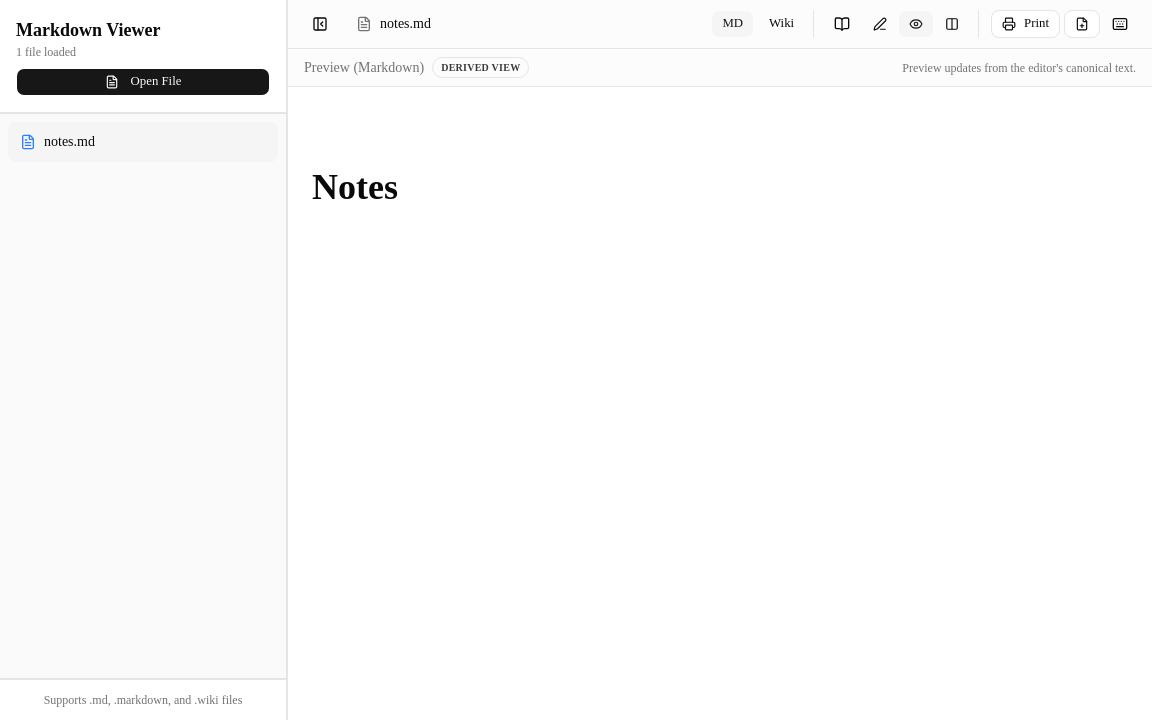
Test case: MDViewer cheatsheet modal › opens the markdown cheatsheet for markdown files by default
The image size is (1152, 720).
Click the button titled "Toggle cheatsheet (Ctrl+/)" at (842, 24), box [826,8,858,40]
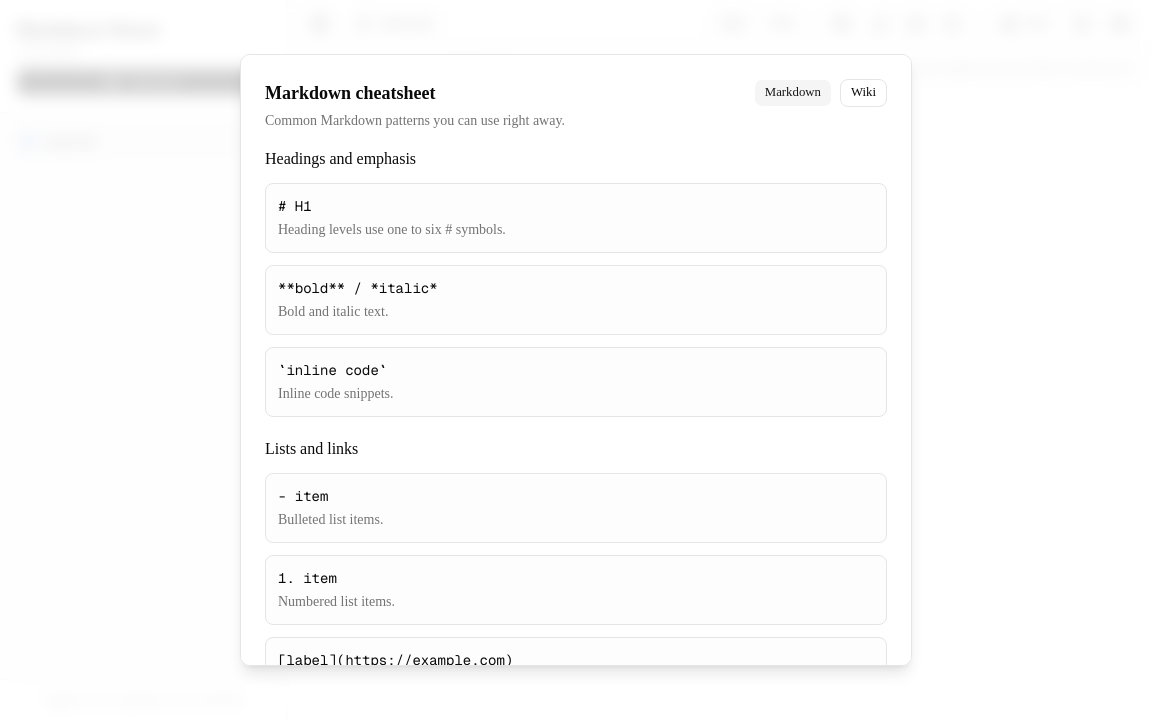
Expected: the heading "Markdown cheatsheet" is shown, [265,83,436,103]
Expected: the text "Common Markdown patterns you can use right away." is shown, [265,111,565,131]
